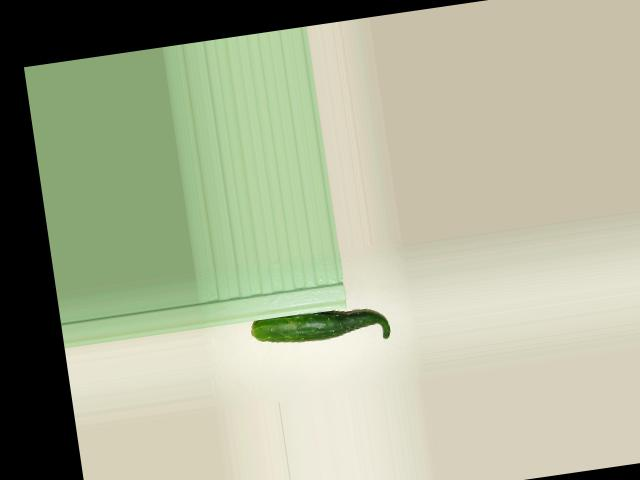cucumber: (250, 301, 391, 357)
